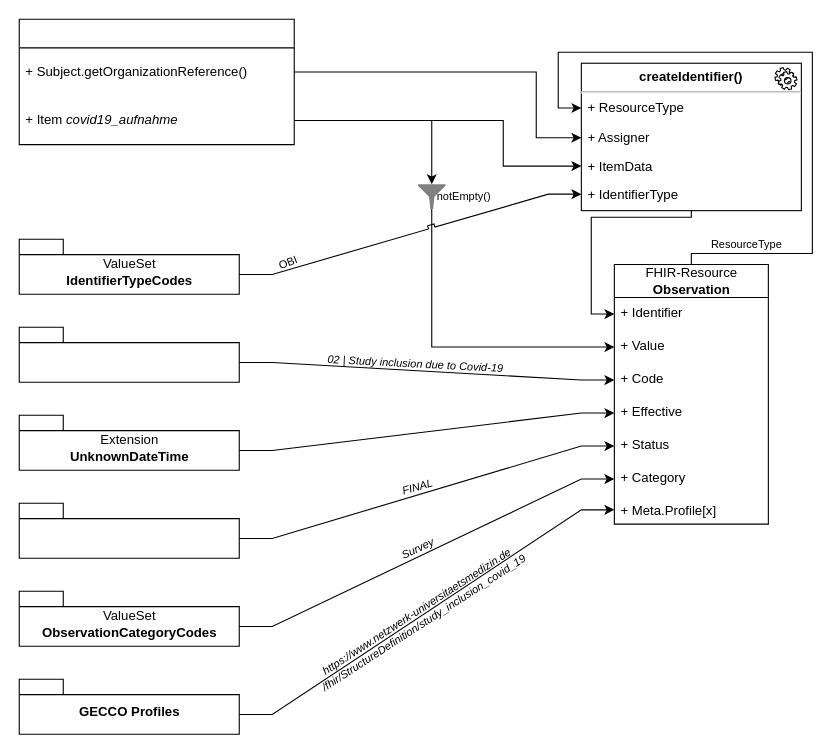
This 840x754 diagram has some shape labels left out. Here are the shapes that lost their labels. From the top down, the box of each, then its label:
(18, 18, 294, 145): ODM
(18, 326, 239, 382): ValueSet eCRF Parameter Codes
(18, 502, 239, 558): ValueSet ObservationStatus
